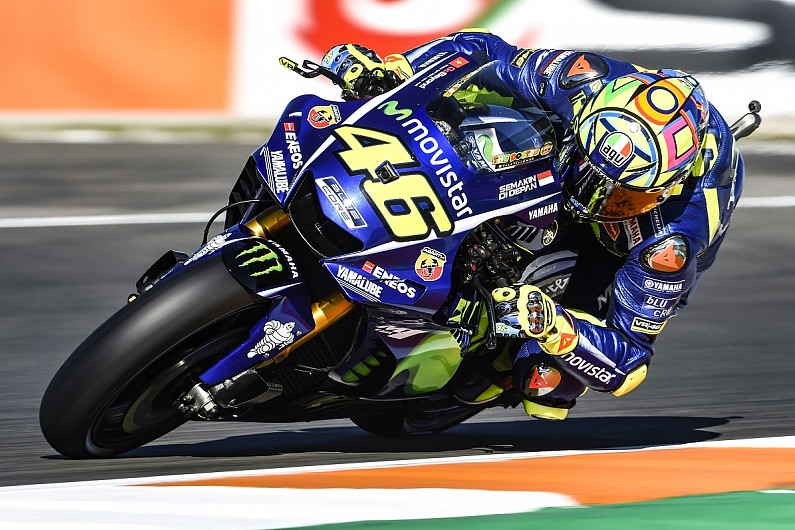helmet: (553, 50, 711, 233)
